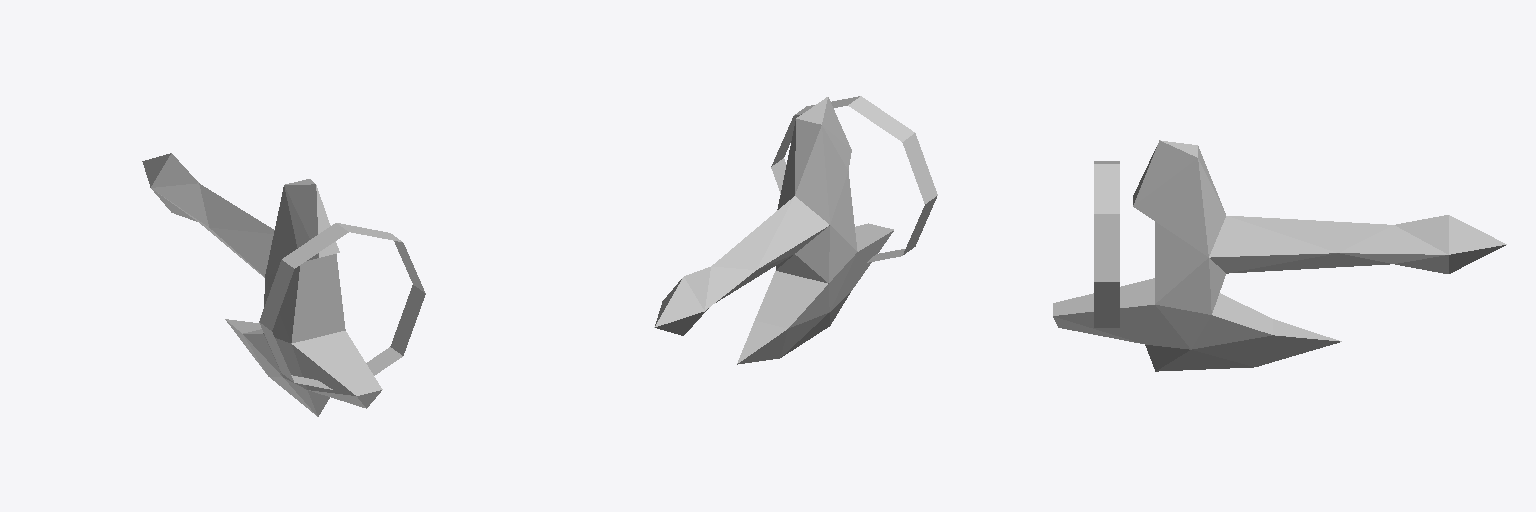
The model's file is saber_hilt.obj.
3 renders of one model, left to right at view 1: azimuth 30°, elevation 25°; view 2: azimuth 150°, elevation 25°; view 3: azimuth 270°, elevation 25°, orthographic.
Visible parts, largest first — view 1: Hilt; view 2: Hilt; view 3: Hilt.
Part boxes in pixels (x1,y1,x2,y2): Hilt: (142, 153, 425, 416); Hilt: (654, 96, 937, 364); Hilt: (1053, 140, 1506, 371).
Size of the model in its own units: 0.168 by 0.2414 by 0.4302.